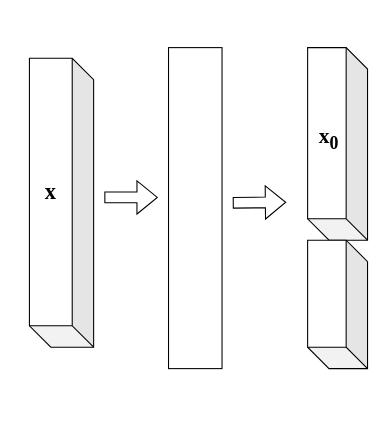
This 386x448 diagram has some shape labels left out. Here are the shapes that lost their labels. From the top down, the centre of each, then its label:
At (194,208): "Channel Split".
At (337,304): "x 1".
